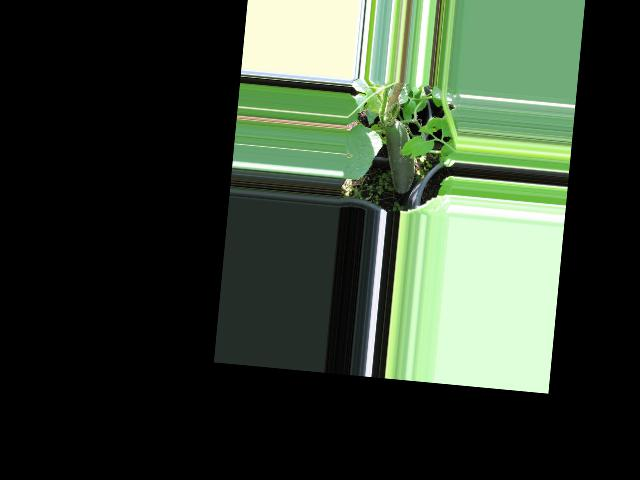cucumber: (379, 119, 419, 194)
